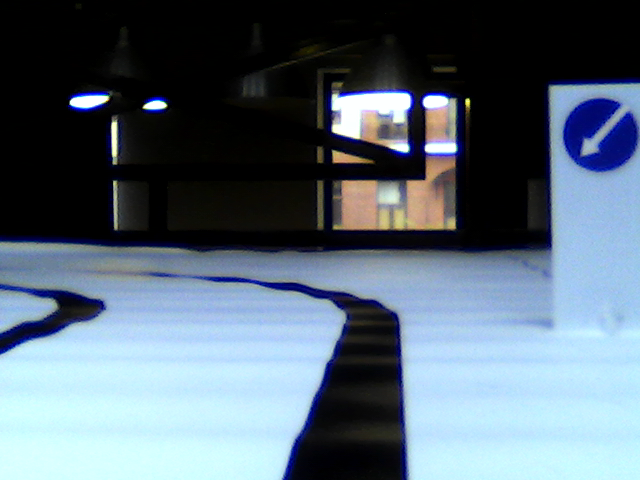prep: (563, 94, 637, 174)
